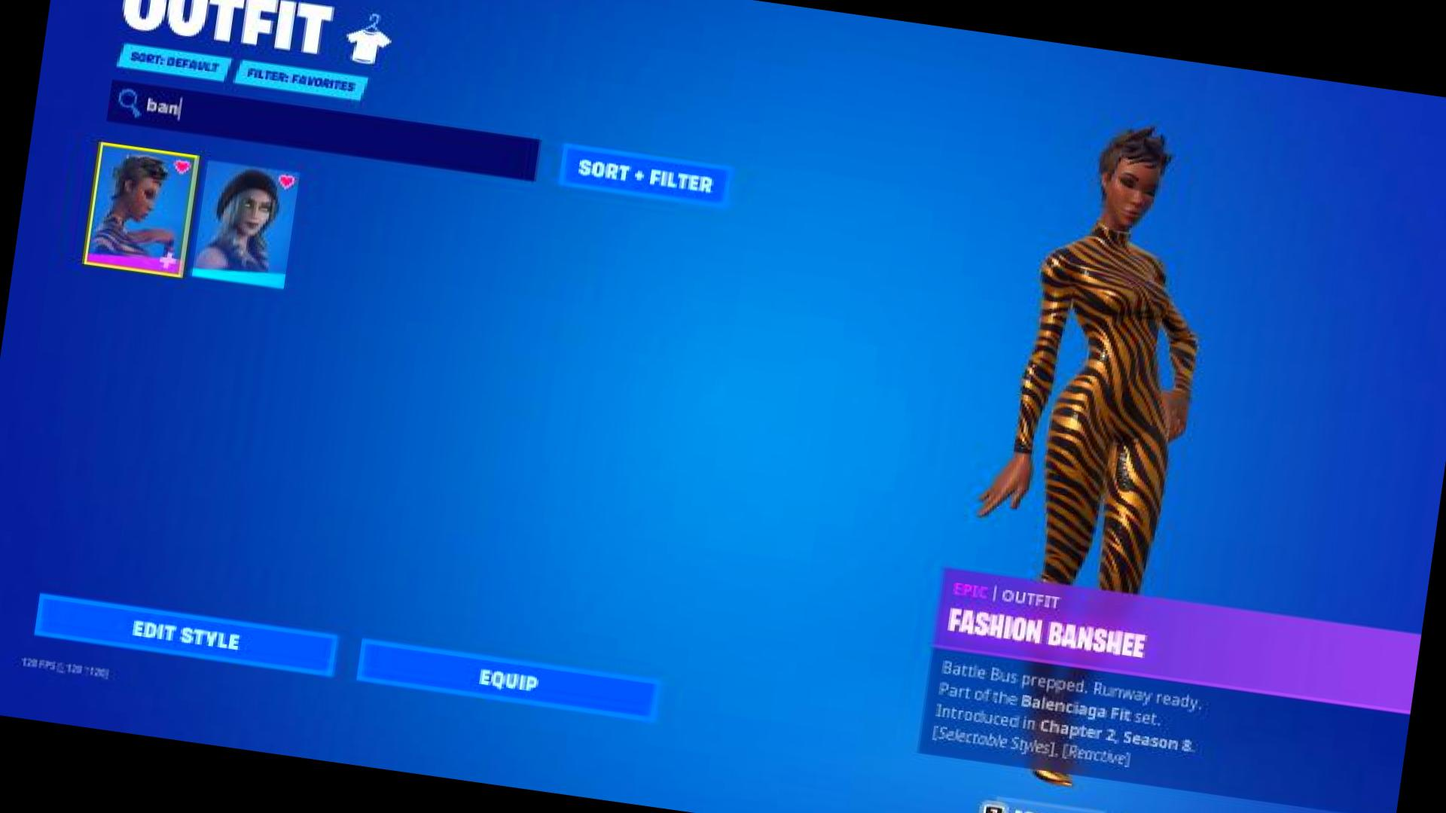player: (897, 98, 1349, 813)
